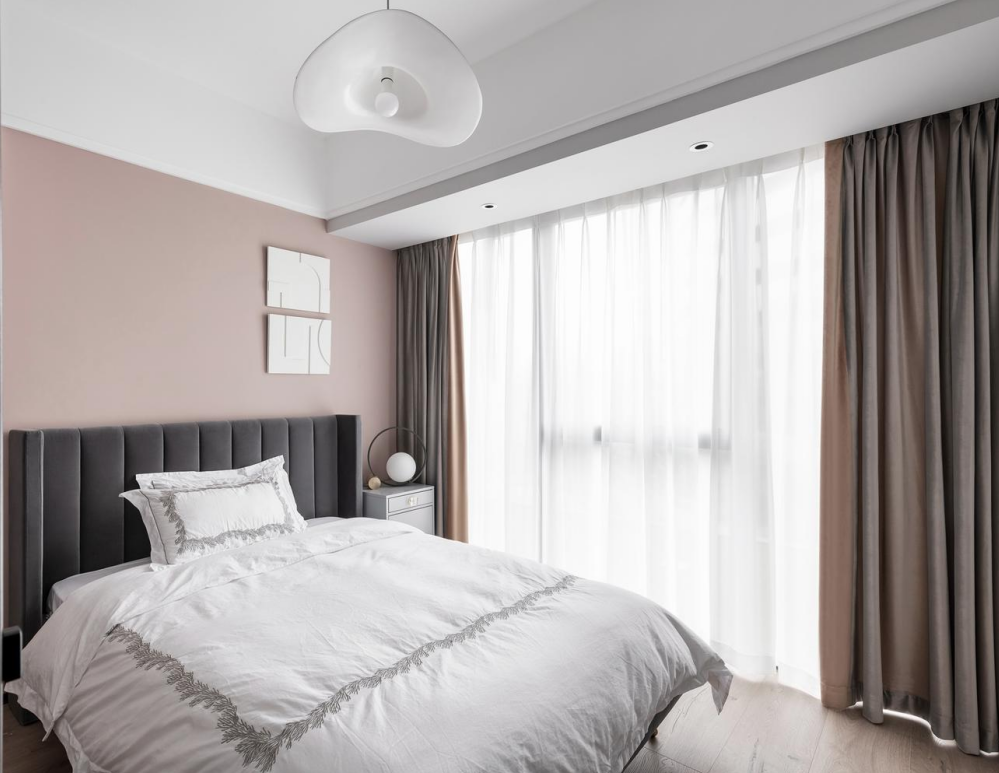床: (19, 523, 706, 772)
枕头: (121, 460, 311, 569)
灯: (290, 15, 487, 150), (375, 447, 418, 487)
